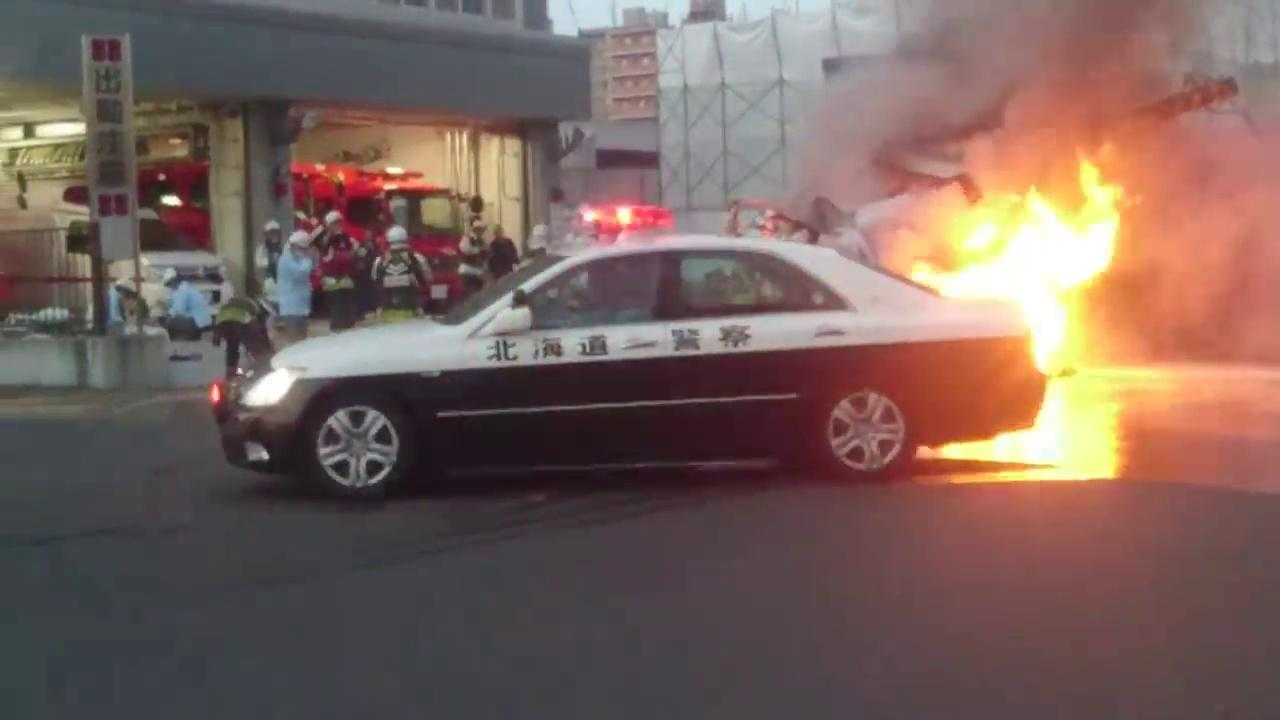fire: (924, 176, 1121, 434)
smoke: (874, 1, 1238, 172), (1129, 179, 1266, 352)
